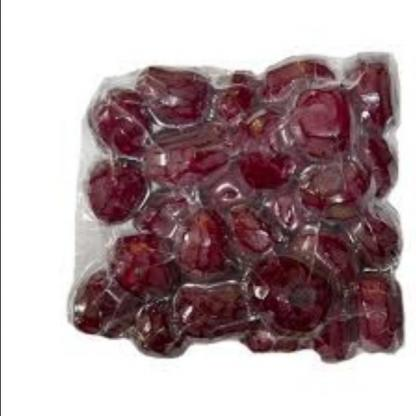beet: (61, 48, 399, 360)
